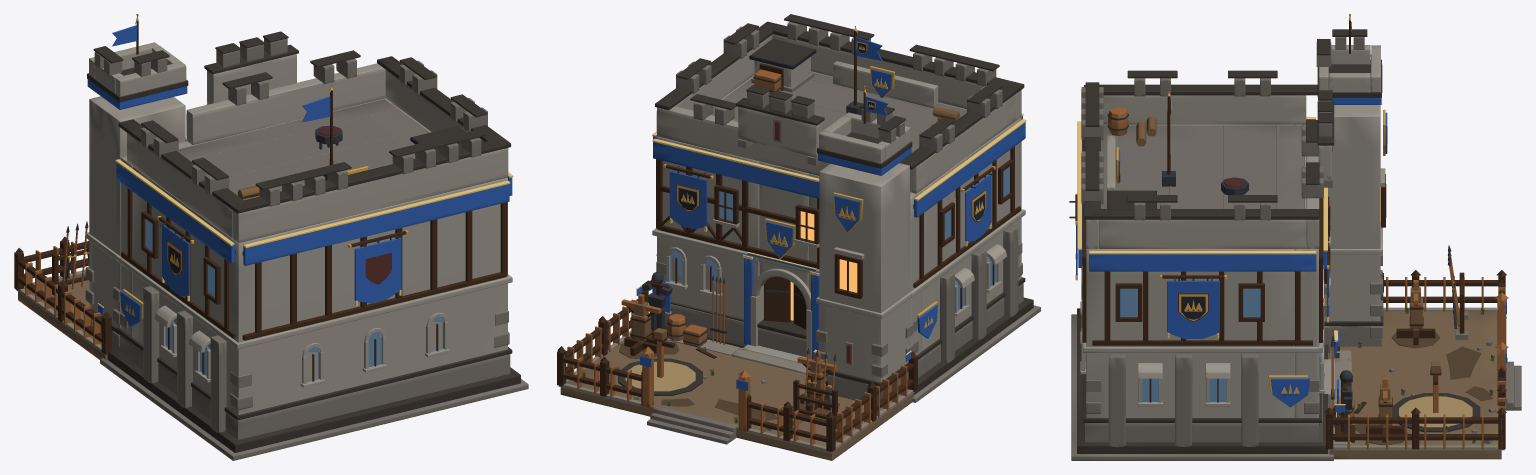
The picture shows the model from 3 angles, left to right: view 1: azimuth 30°, elevation 25°; view 2: azimuth 150°, elevation 25°; view 3: azimuth 270°, elevation 25°; orthographic projection. The views are drawn at different scales.
Parts seen in each view (by area): view 1: BR-stone_light, BR-stone_mid, BR-stone_dark, BR-team, BR-wood_dark, BR-wood_warm, BR-team_trim, BR-glass, BR-earth, BR-coal, BR-gold, BR-iron (+1 smaller); view 2: BR-stone_light, BR-stone_mid, BR-wood_dark, BR-stone_dark, BR-team, BR-earth, BR-wood_warm, BR-paving, BR-gold, BR-team_trim, BR-iron, BR-glass (+6 smaller); view 3: BR-stone_light, BR-stone_mid, BR-stone_dark, BR-wood_dark, BR-earth, BR-team, BR-wood_warm, BR-team_trim, BR-glass, BR-paving, BR-earth_dark, BR-iron (+4 smaller).
Part boxes in pixels (x1,y1,x2,y2): BR-stone_light: (85,42,512,414); BR-stone_mid: (52,38,528,460); BR-stone_dark: (87,31,520,452); BR-team: (87,25,512,327); BR-wood_dark: (14,21,507,381); BR-wood_warm: (15,198,252,352); BR-team_trim: (97,137,513,307); BR-glass: (145,219,443,382); BR-earth: (18,274,107,359); BR-coal: (126,126,391,317); BR-gold: (67,14,408,324); BR-iron: (65,125,415,282); BR-stone_light: (652,34,1025,382); BR-stone_mid: (574,22,1040,444); BR-wood_dark: (557,30,1020,451); BR-stone_dark: (618,14,1033,395); BR-team: (636,37,1025,390); BR-earth: (560,337,914,460); BR-wood_warm: (564,69,907,447); BR-paving: (558,331,914,453); BR-gold: (663,26,995,387); BR-team_trim: (636,113,1026,355); BR-iron: (642,76,993,410); BR-glass: (670,166,1009,309); BR-stone_light: (1080,45,1385,417); BR-stone_mid: (1071,37,1521,460); BR-stone_dark: (1077,29,1480,453); BR-wood_dark: (1075,20,1506,449); BR-earth: (1329,310,1501,459); BR-team: (1076,90,1506,417); BR-wood_warm: (1108,107,1508,449); BR-team_trim: (1075,117,1345,417); BR-glass: (1085,269,1324,401); BR-paving: (1329,307,1504,450); BR-earth_dark: (1355,328,1492,445); BR-iron: (1069,113,1457,433).
Bounding box in the file's own units: 11.08 × 11.75 × 14.73.
